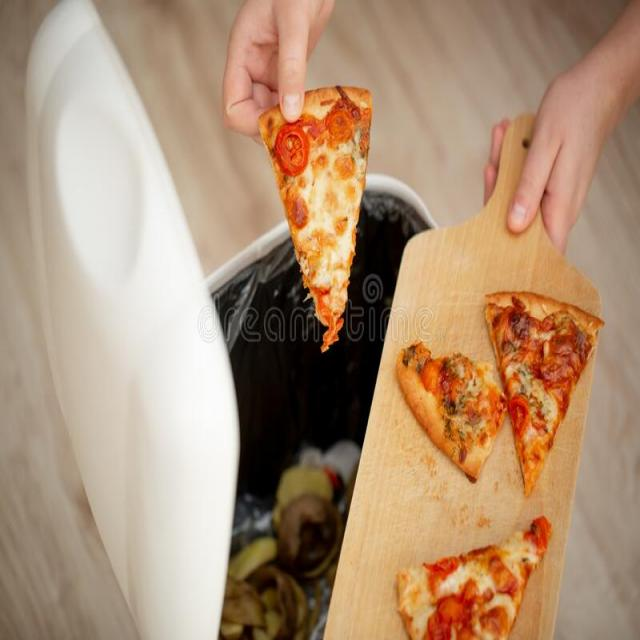Food waste: (263, 102, 375, 340), (486, 287, 604, 496), (386, 515, 558, 640), (394, 340, 503, 473)
